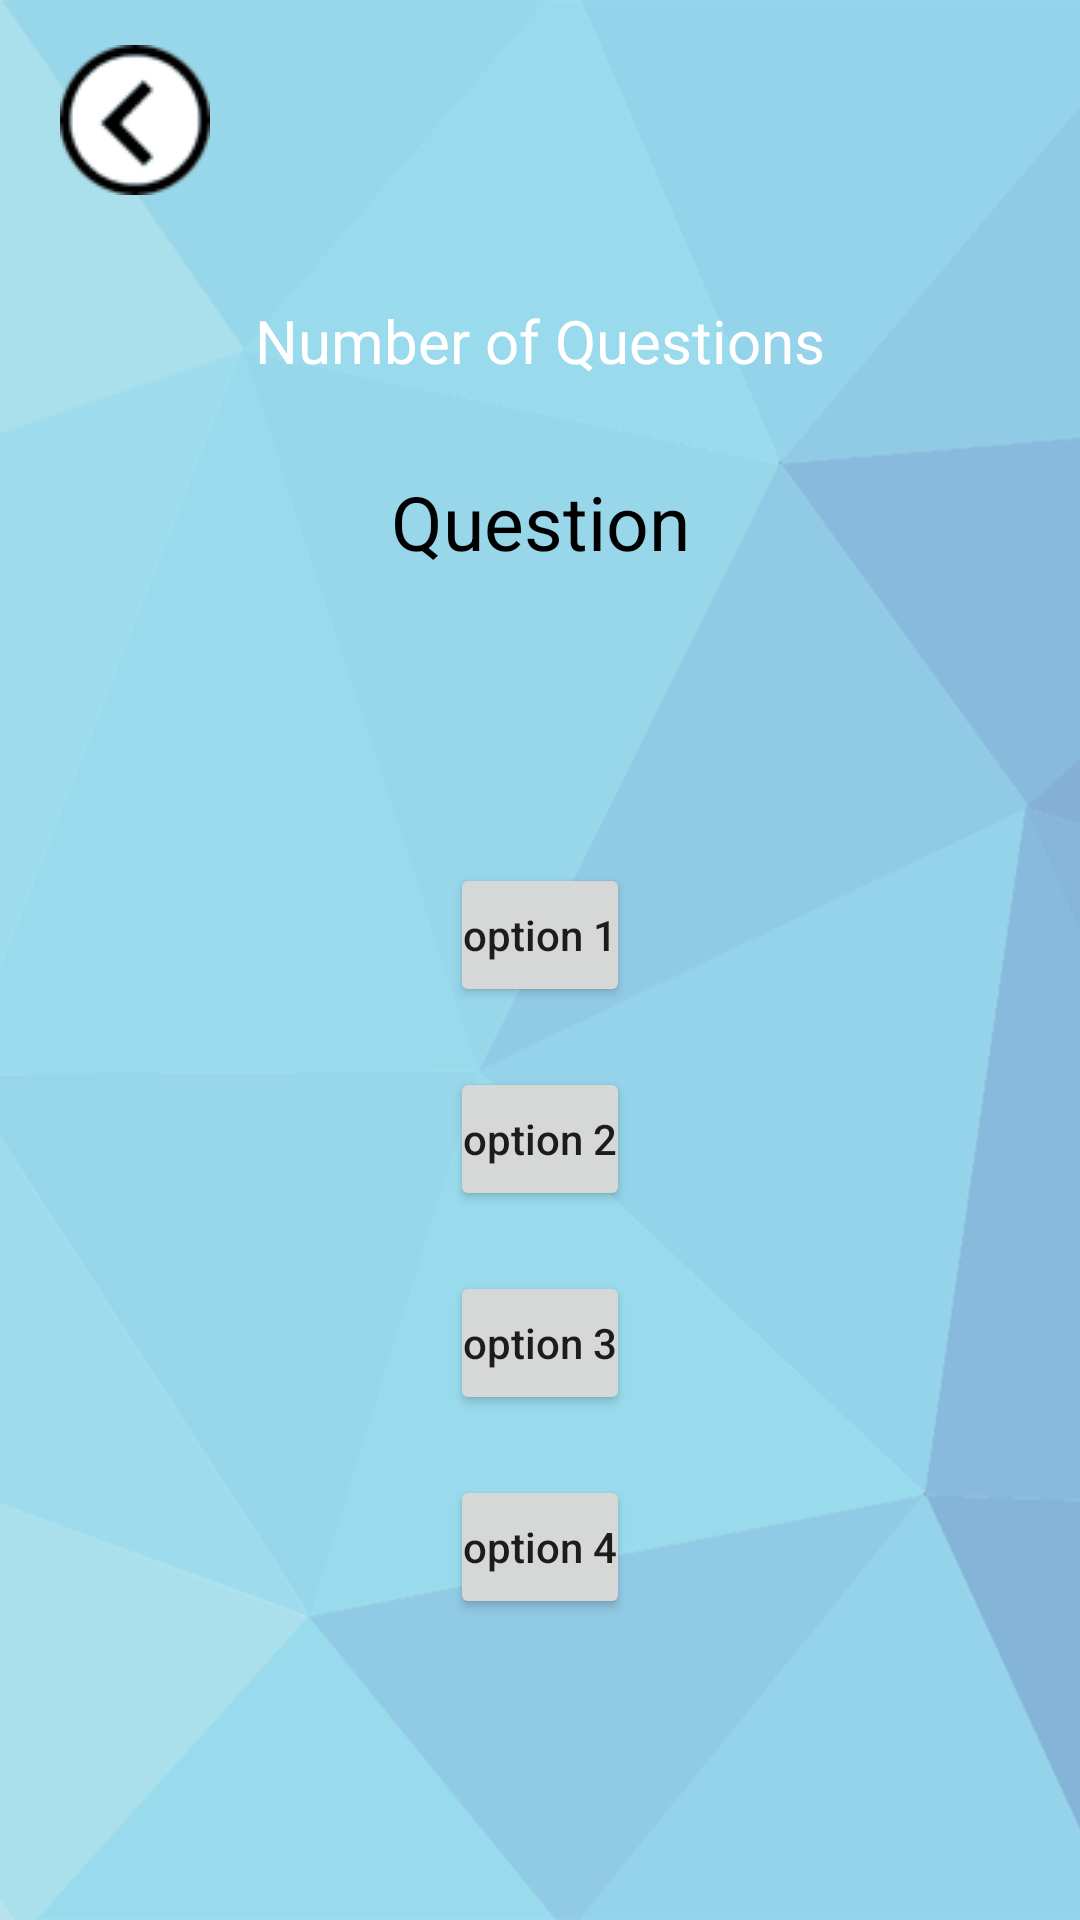

Screen size 1080 x 1920. Icon name, then its center in pixels as (x,y):
retornar: (135,120)
